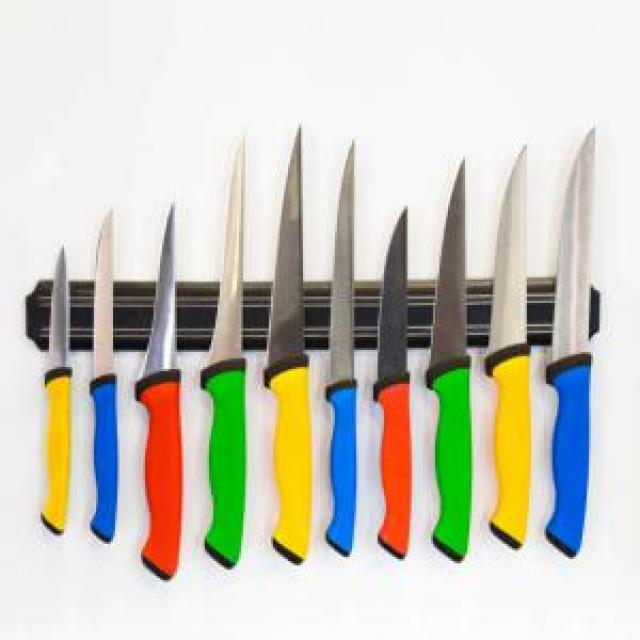knife: (546, 128, 601, 562), (264, 124, 314, 564), (202, 130, 248, 577), (424, 158, 474, 566), (134, 203, 187, 579), (486, 145, 529, 553), (371, 202, 415, 568), (326, 139, 358, 566), (94, 205, 126, 542), (41, 243, 74, 537)
